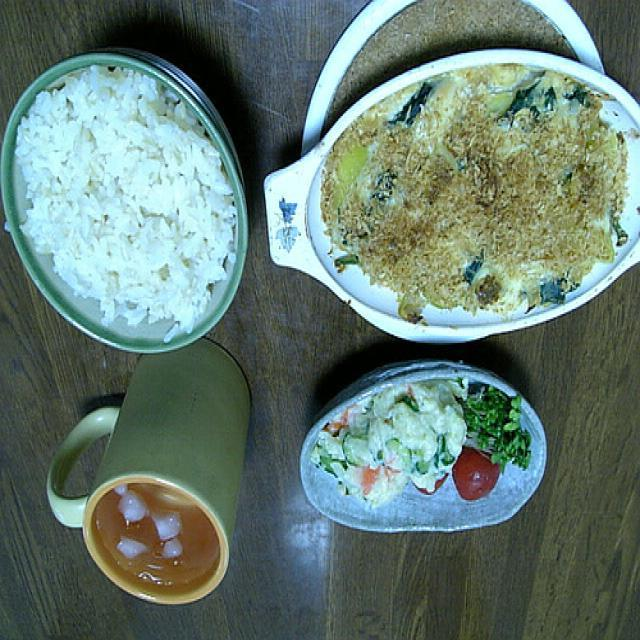Rice: (22, 81, 232, 323)
